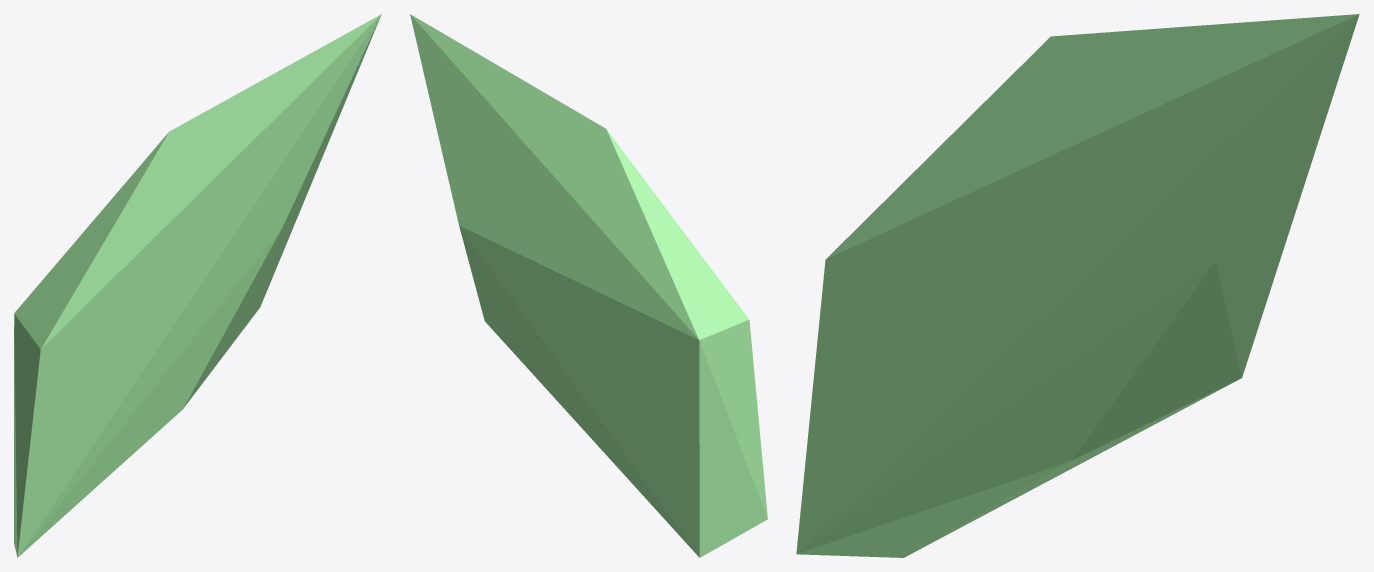
Rendered from xarm7_with_gripper_LR4_R560_link2_respondable_coll_15.dae.
3 renders of one model, left to right at view 1: azimuth 30°, elevation 25°; view 2: azimuth 150°, elevation 25°; view 3: azimuth 330°, elevation 25°, orthographic. The views are drawn at different scales.
Visible parts, largest first — view 1: Node_000001B89B5E5240; view 2: Node_000001B89B5E5240; view 3: Node_000001B89B5E5240.
Part boxes in pixels (<box>): Node_000001B89B5E5240: <box>14,14,381,557</box>; Node_000001B89B5E5240: <box>410,14,767,557</box>; Node_000001B89B5E5240: <box>796,14,1359,557</box>.
Bounding box in the file's own units: 0.0948 × 0.1147 × 0.0176.
